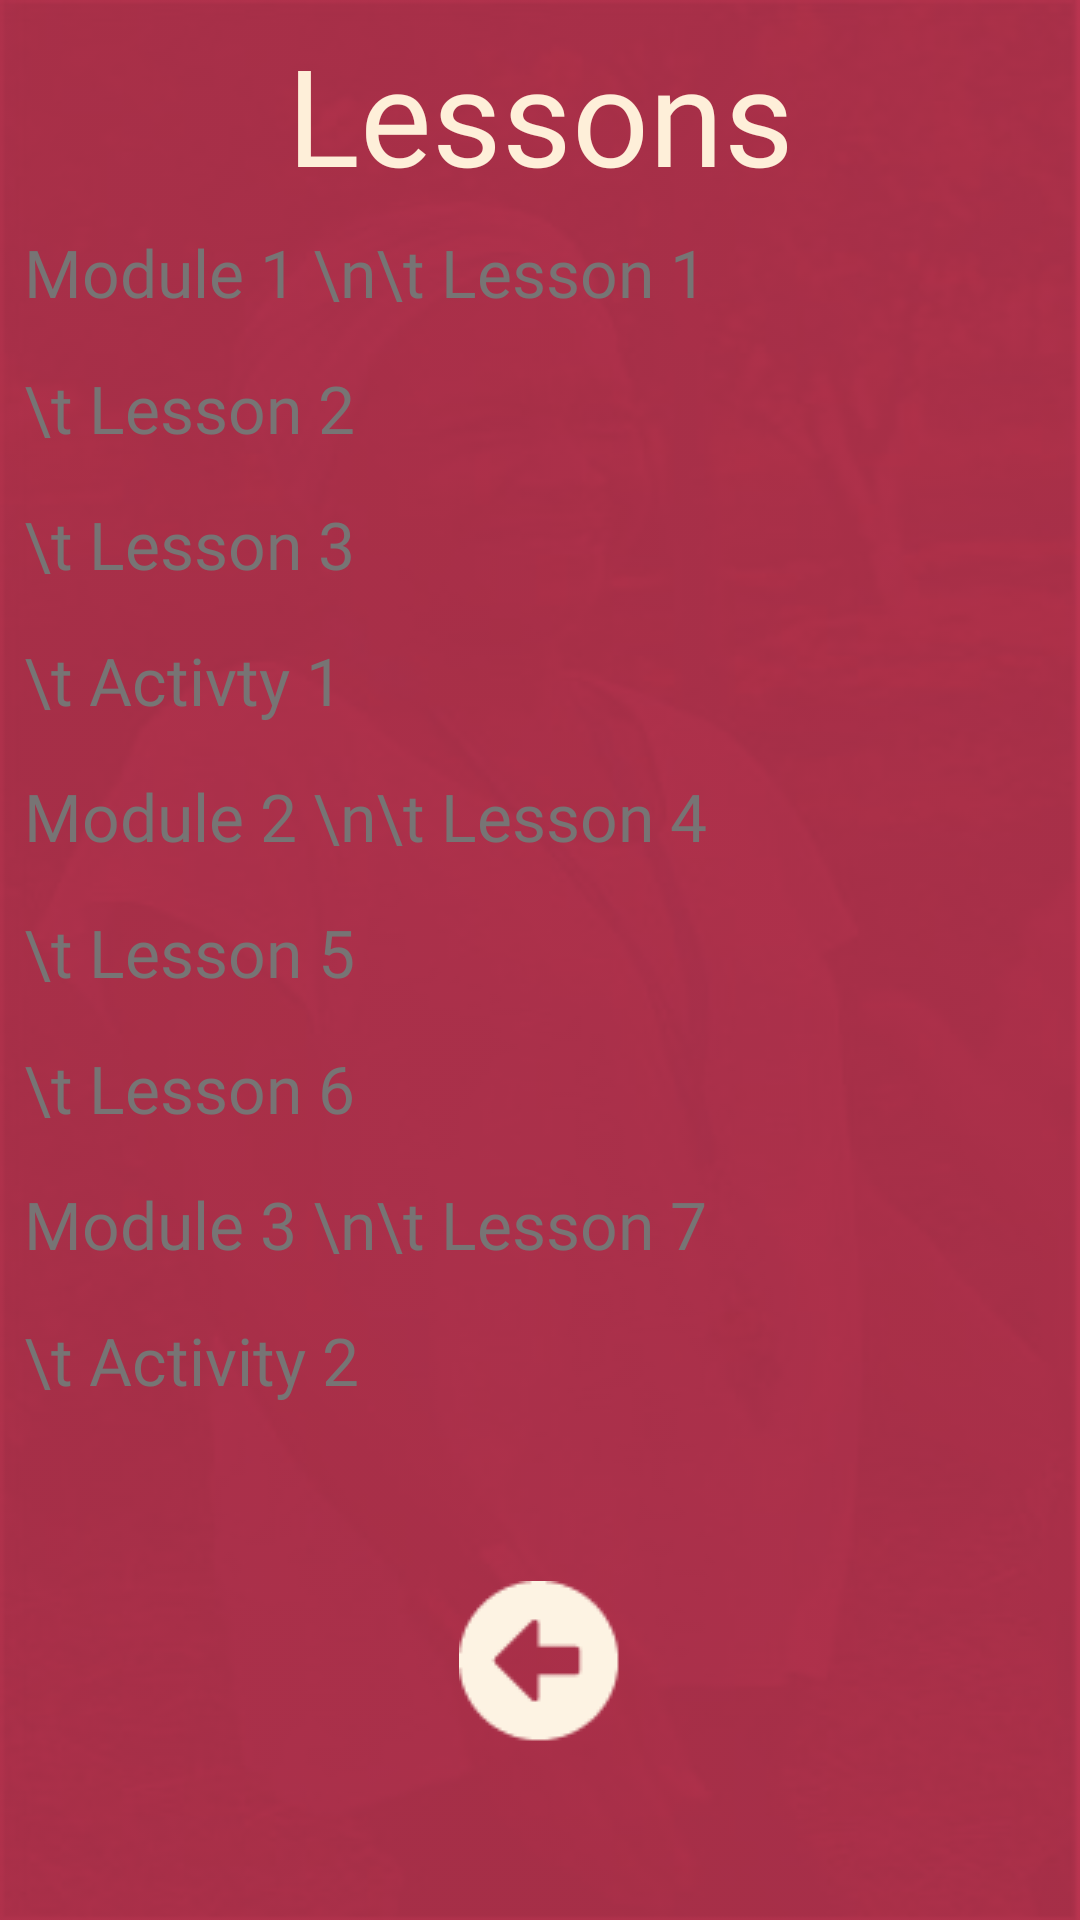

Icons on this 1080 × 1920 Android screen, each with the point to tap as (x,y):
back: (539,1661)
